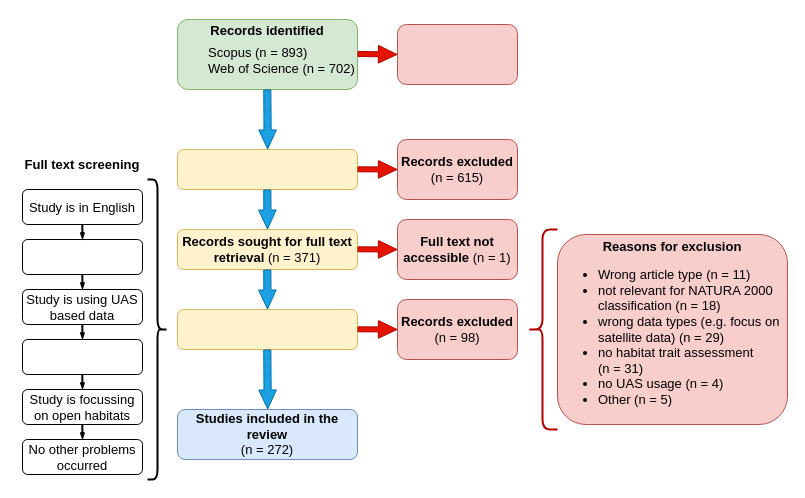
This 805x498 diagram has some shape labels left out. The box of each missing label's shape, as (x1, y1, x2, y2) in pixels:
Duplicates removed (n = 609): (396, 24, 518, 84)
Full text screened (n = 370): (176, 308, 358, 350)
Study is a peer reviewed article: (22, 238, 142, 274)
Study is assessing habitat traits: (22, 338, 142, 374)
Title and Abstract screened (n = 986): (176, 148, 358, 190)
